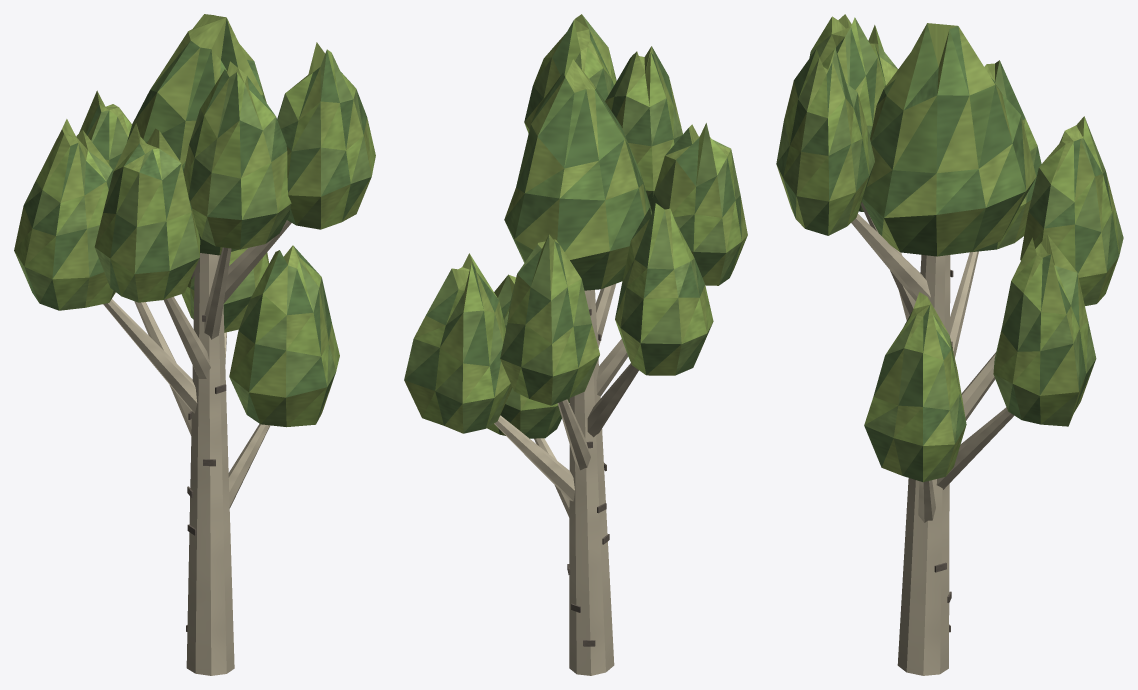
Rendered from tree_birch_01.fbx.
The picture shows the model from 3 angles, left to right: view 1: azimuth 30°, elevation 25°; view 2: azimuth 150°, elevation 25°; view 3: azimuth 270°, elevation 25°; orthographic projection. The views are drawn at different scales.
Visible parts, largest first — view 1: tree_birch_01; view 2: tree_birch_01; view 3: tree_birch_01.
Part boxes in pixels (x1,y1,x2,y2): tree_birch_01: [14, 14, 375, 675]; tree_birch_01: [404, 14, 747, 675]; tree_birch_01: [776, 14, 1123, 675].
Bounding box in the file's own units: 391 × 850 × 410.
Materials: 1 (1 with a texture image).
